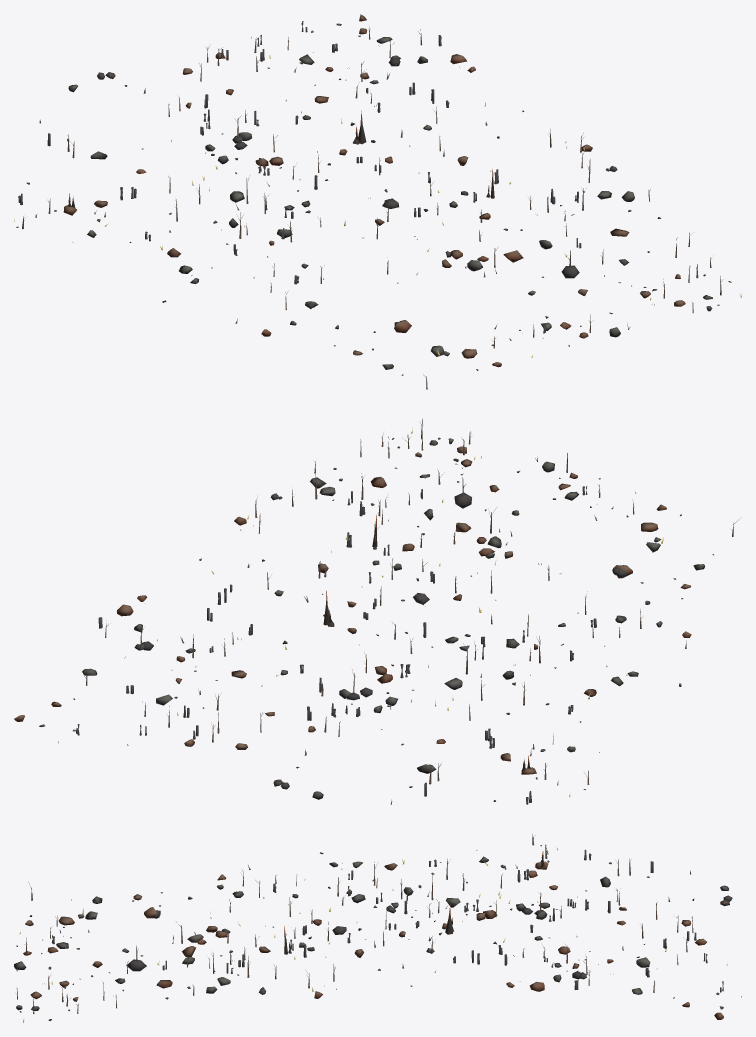
The model's file is ash_land_scatter_c14_29_lod1.glb.
The picture shows the model from 3 angles, top to bottom: view 1: azimuth 30°, elevation 25°; view 2: azimuth 150°, elevation 25°; view 3: azimuth 270°, elevation 25°; orthographic projection. The views are drawn at different scales.
Visible parts, largest first — view 1: ash_land_scatter_c14_29_lod1; view 2: ash_land_scatter_c14_29_lod1; view 3: ash_land_scatter_c14_29_lod1.
Boxes of the visible parts, x1=… form: ash_land_scatter_c14_29_lod1: x1=14, y1=14, x2=741, y2=389; ash_land_scatter_c14_29_lod1: x1=14, y1=418, x2=740, y2=804; ash_land_scatter_c14_29_lod1: x1=14, y1=834, x2=741, y2=1022.
Bounding box in the file's own units: 170 × 30.52 × 254.
